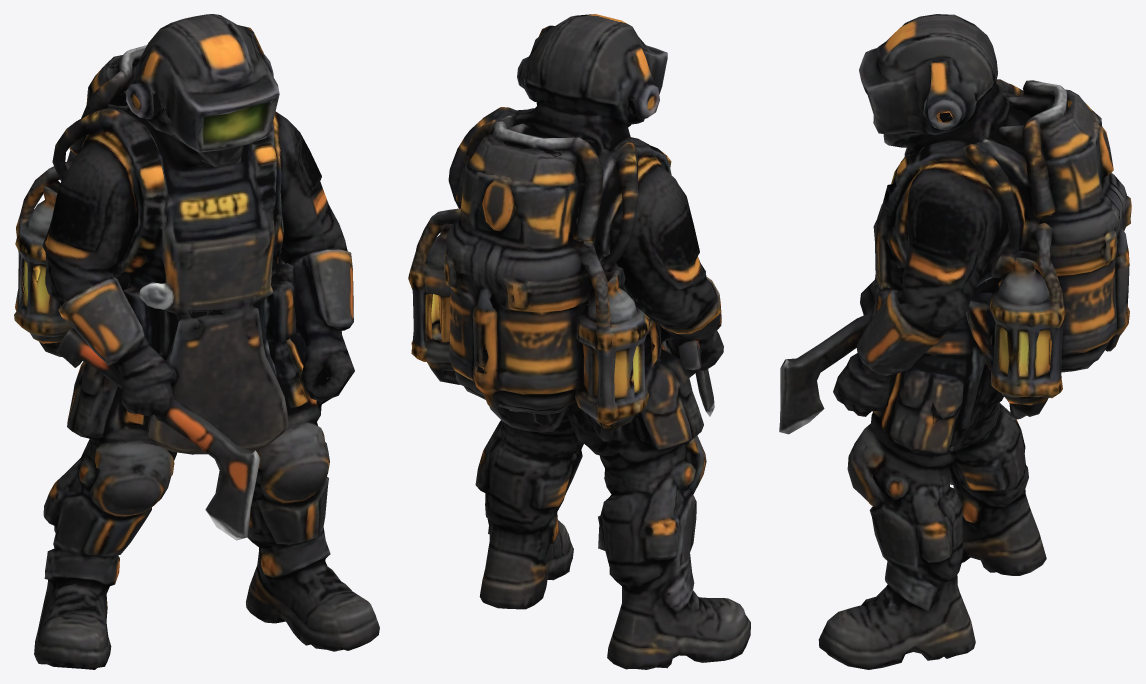
The model's file is engineer_l04.glb.
The picture shows the model from 3 angles, left to right: view 1: azimuth 30°, elevation 25°; view 2: azimuth 150°, elevation 25°; view 3: azimuth 270°, elevation 25°; orthographic projection. The views are drawn at different scales.
Parts seen in each view (by area): view 1: world; view 2: world; view 3: world.
Boxes of the visible parts, x1=… form: world: x1=14, y1=14, x2=379, y2=669; world: x1=408, y1=14, x2=750, y2=669; world: x1=779, y1=14, x2=1131, y2=669.
Size of the model in its own units: 0.5025 by 1 by 0.5462.
Materials: 1 (1 with a texture image).
